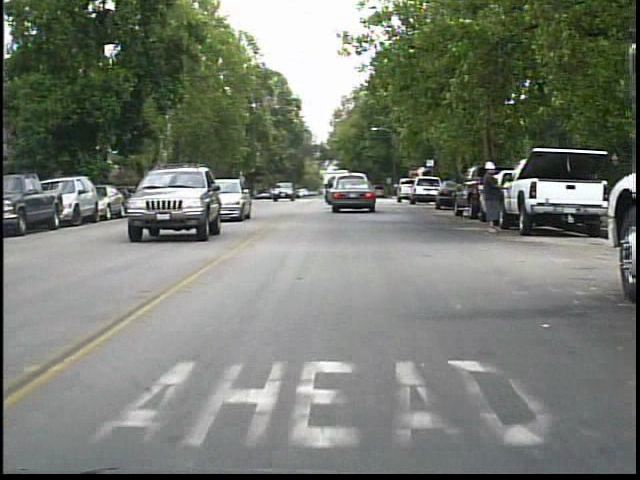person: (478, 158, 509, 238)
